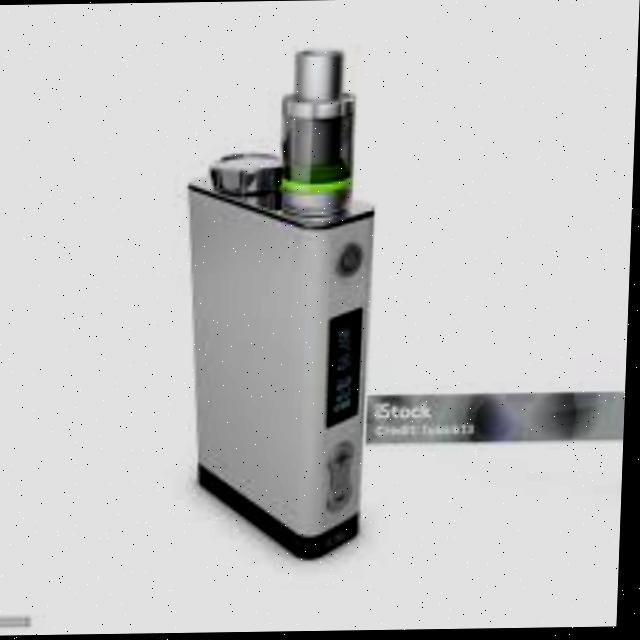vape: (180, 50, 382, 562)
